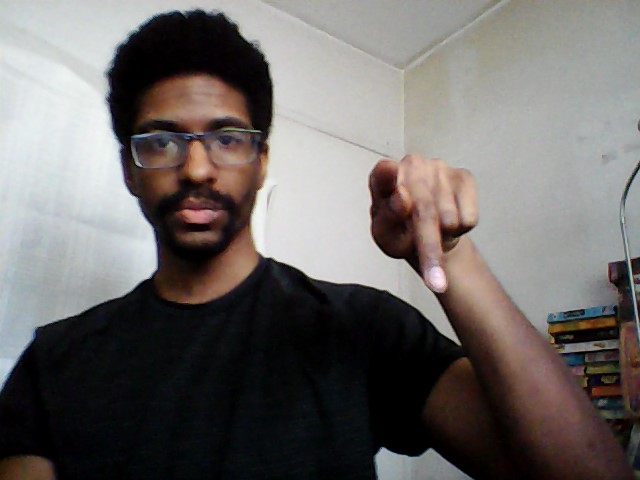p: (363, 148, 485, 300)
